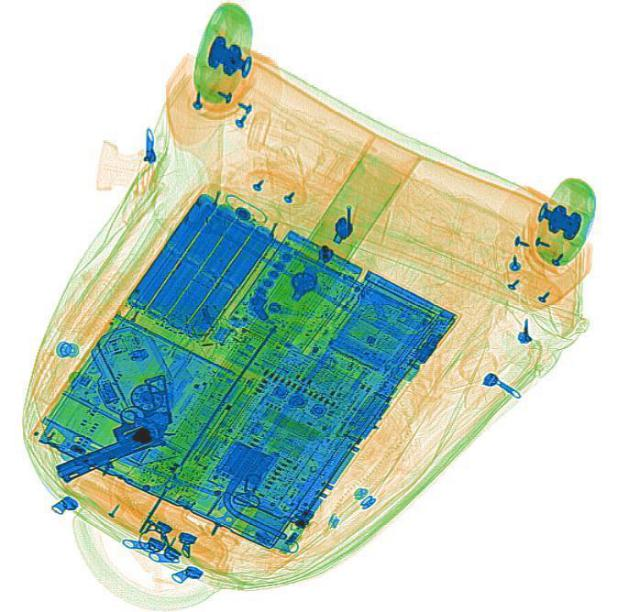Gun: (32, 371, 194, 482)
